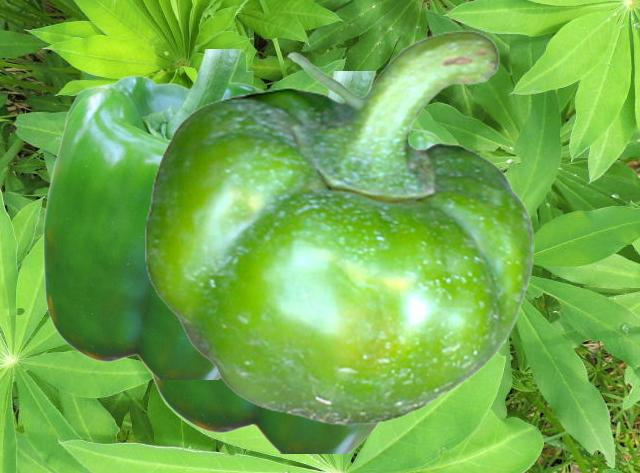bell_pepper: (145, 29, 533, 424), (149, 71, 445, 452), (42, 49, 263, 378)
